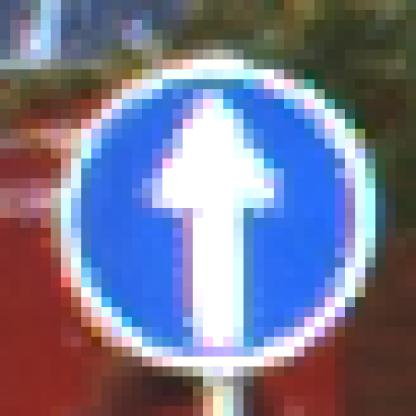AheadOnly: (52, 51, 366, 368)
